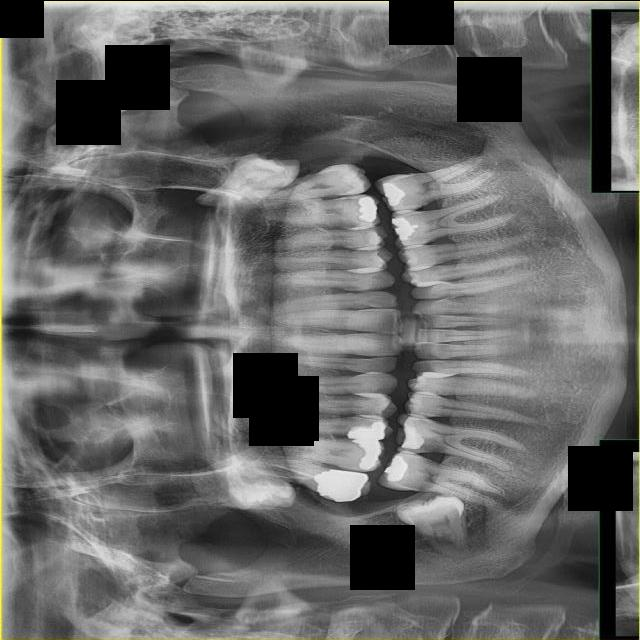74: (254, 466, 312, 482), (266, 461, 314, 478)
NucleOSS Implant: (311, 465, 368, 505), (351, 432, 385, 471), (384, 206, 420, 242), (347, 419, 386, 444), (381, 452, 410, 485), (380, 176, 408, 207), (402, 419, 425, 449), (358, 195, 378, 221)
Sterngold Implant: (411, 433, 448, 453), (413, 414, 435, 428), (415, 195, 432, 207), (395, 171, 424, 178), (338, 195, 352, 202), (334, 190, 351, 195)
